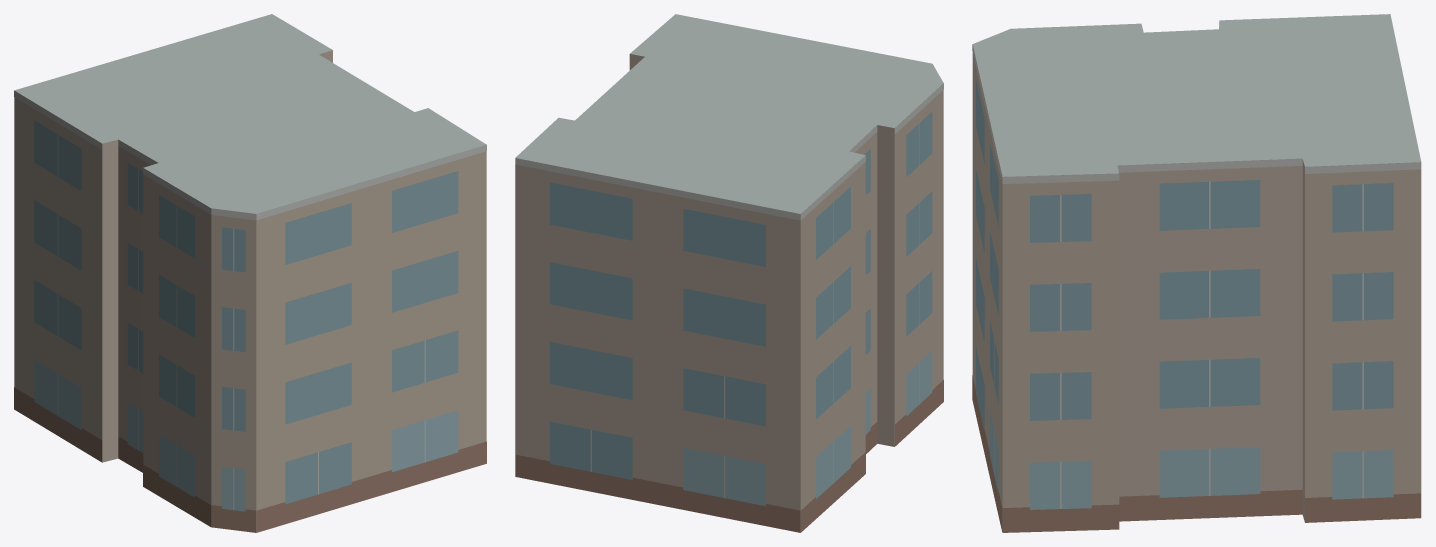
The model's file is survey-upis-33040553.glb.
The picture shows the model from 3 angles, left to right: view 1: azimuth 30°, elevation 25°; view 2: azimuth 150°, elevation 25°; view 3: azimuth 270°, elevation 25°; orthographic projection. The views are drawn at different scales.
Parts seen in each view (by area): view 1: survey-upis-33040553.tmp; view 2: survey-upis-33040553.tmp; view 3: survey-upis-33040553.tmp.
Part boxes in pixels (<box>): survey-upis-33040553.tmp: <box>14,14,486,532</box>; survey-upis-33040553.tmp: <box>515,14,943,532</box>; survey-upis-33040553.tmp: <box>972,14,1421,532</box>.
Size of the model in its own units: 11.73 by 11.95 by 13.66.
